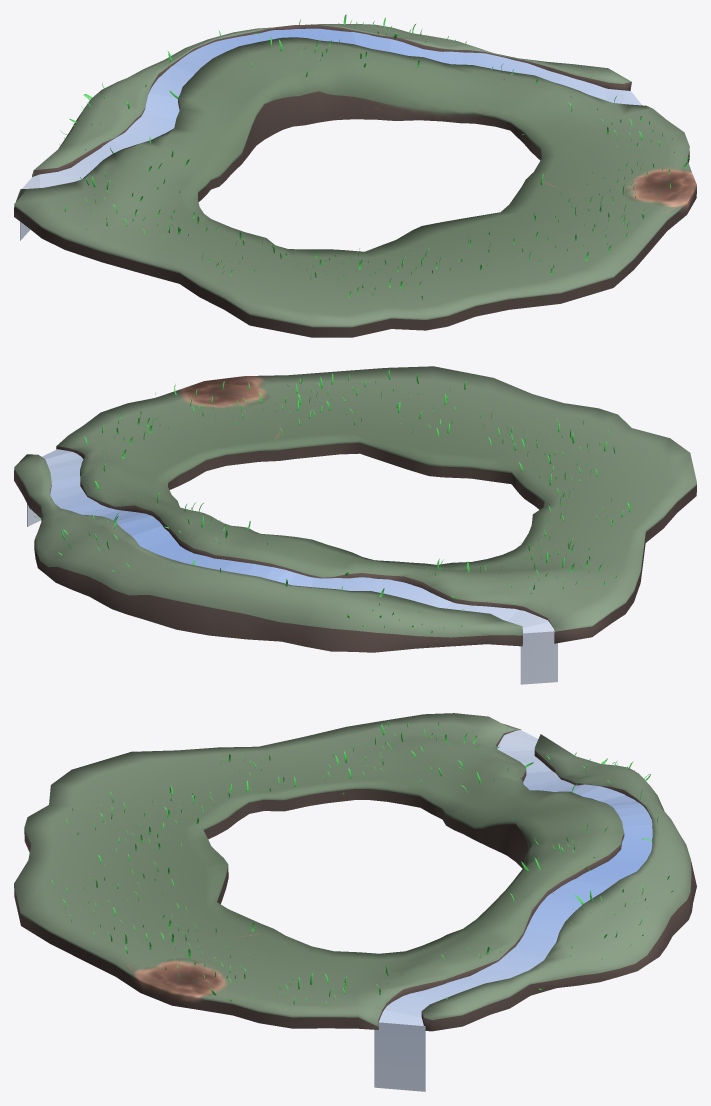
The model's file is Enviroment_withGlass 2.fbx.
3 views of the same model, one above another, from view 1: azimuth 30°, elevation 25°; view 2: azimuth 150°, elevation 25°; view 3: azimuth 270°, elevation 25° (orthographic). The views are drawn at different scales.
Visible parts, largest first — view 1: ground, River; view 2: ground, River; view 3: ground, River.
Part boxes in pixels (x1=…): ground: x1=14, y1=23, x2=696, y2=337; River: x1=20, y1=28, x2=641, y2=240; ground: x1=14, y1=366, x2=696, y2=652; River: x1=27, y1=449, x2=557, y2=684; ground: x1=14, y1=713, x2=696, y2=1031; River: x1=374, y1=730, x2=652, y2=1091.
Size of the model in its own units: 1357 by 269 by 1290.
Materials: 5 (2 with a texture image).
